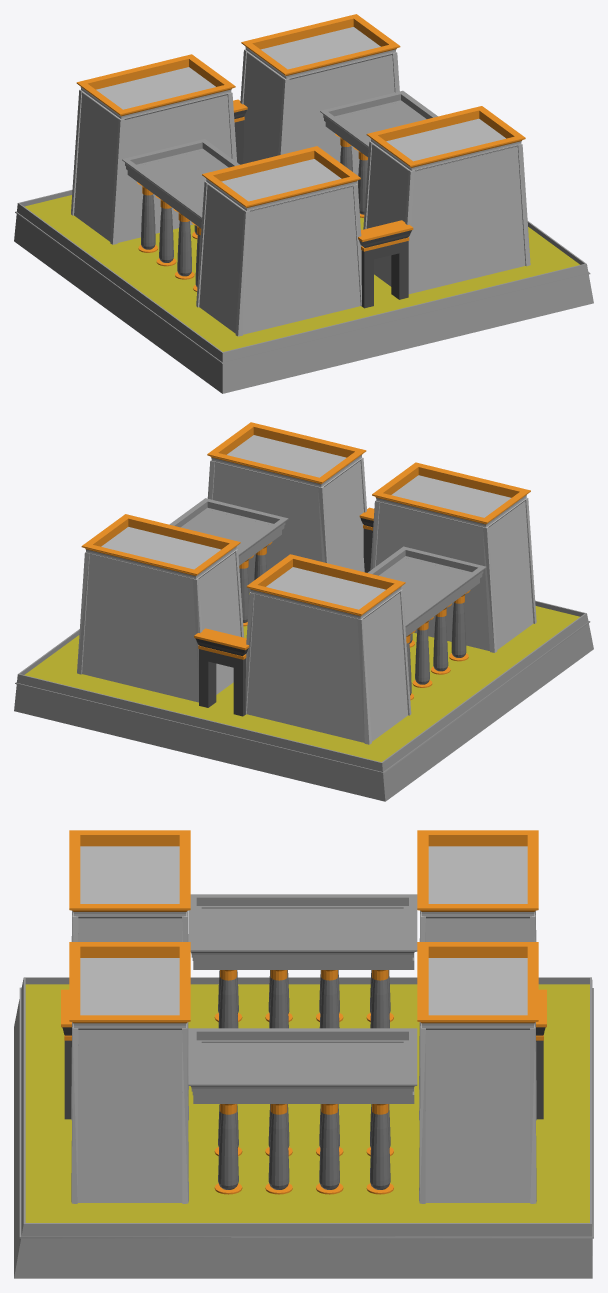
File: SM_temple_egypt.fbx
The picture shows the model from 3 angles, top to bottom: view 1: azimuth 30°, elevation 25°; view 2: azimuth 150°, elevation 25°; view 3: azimuth 270°, elevation 25°; orthographic projection. The views are drawn at different scales.
Visible parts, largest first — view 1: Object113; view 2: Object113; view 3: Object113.
Boxes of the visible parts, left/top/right/bottom form: Object113: left=14, top=14, right=593, bottom=393; Object113: left=14, top=422, right=593, bottom=801; Object113: left=14, top=830, right=593, bottom=1278.
Size of the model in its own units: 1230 by 1198 by 515.
